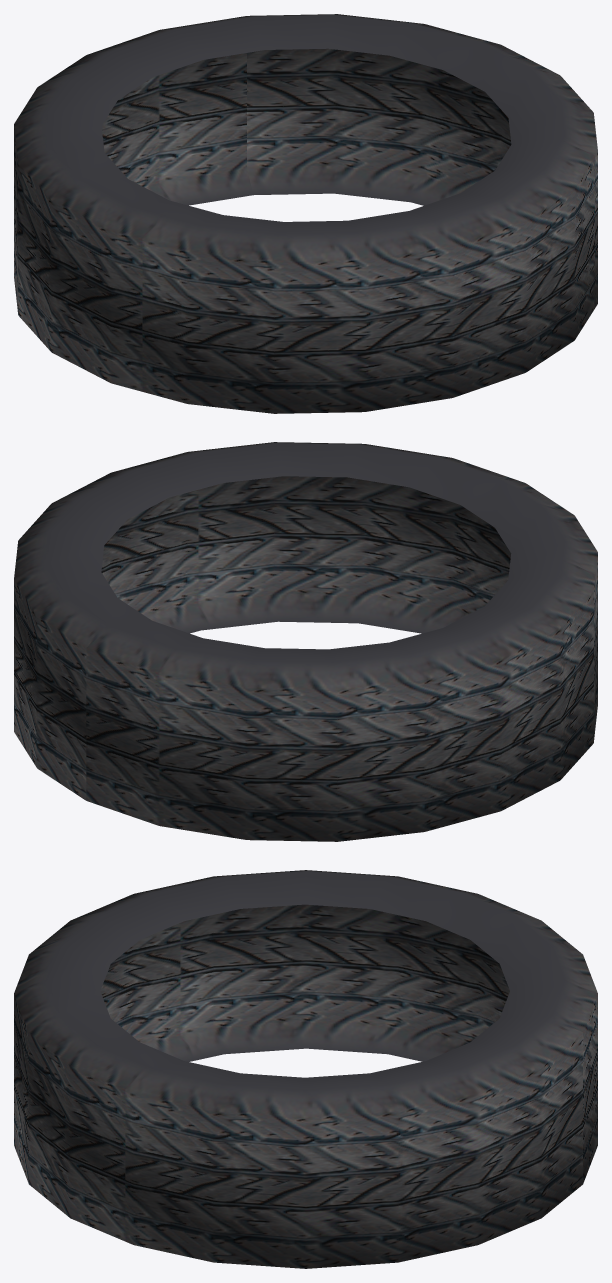
File: tire.obj
3 views of the same model, one above another, from view 1: azimuth 30°, elevation 25°; view 2: azimuth 150°, elevation 25°; view 3: azimuth 270°, elevation 25° (orthographic).
Visible parts, largest first — view 1: Object01; view 2: Object01; view 3: Object01.
Boxes of the visible parts, box(x1,y1,x2,y2) form: Object01: box(14, 14, 597, 413); Object01: box(14, 442, 597, 841); Object01: box(14, 870, 597, 1268).
Bounding box in the file's own units: 0.582 × 0.1948 × 0.582.
Materials: 2 (2 with a texture image).
